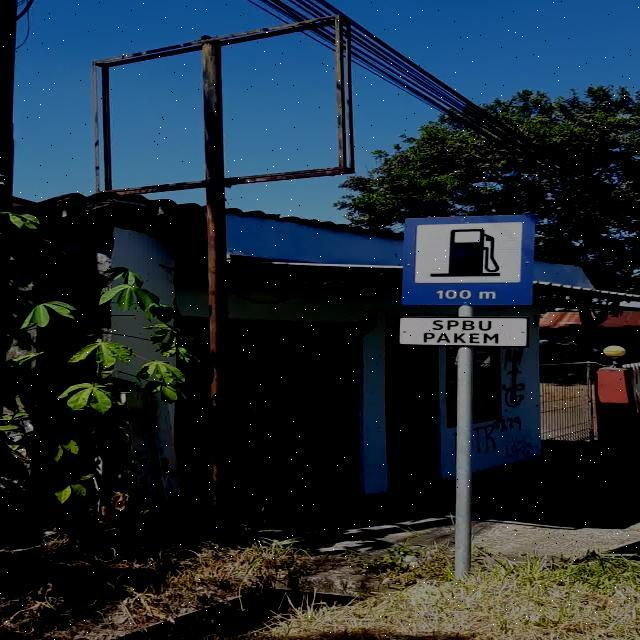Pom Bensin: (400, 214, 536, 306)
